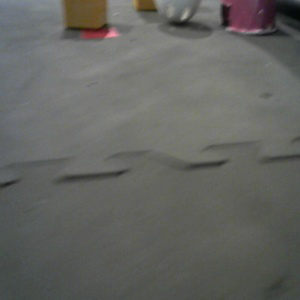right: (219, 1, 278, 34)
